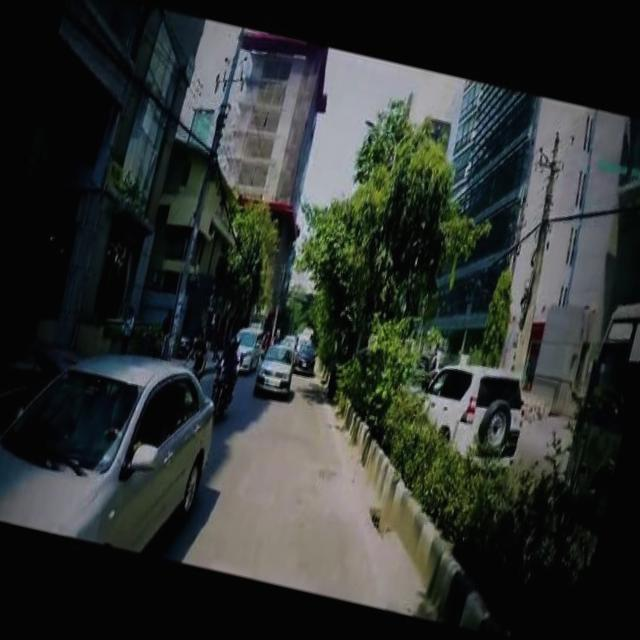bus: (559, 287, 640, 517)
car: (0, 313, 229, 558), (411, 349, 536, 470), (253, 337, 300, 398), (294, 336, 320, 371)
motorcycle: (206, 358, 241, 418)
truck: (231, 322, 268, 372)
